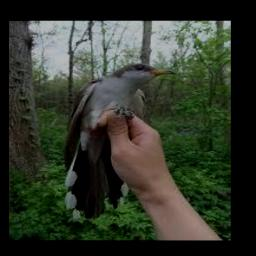Cuckoo: (64, 63, 174, 218)
